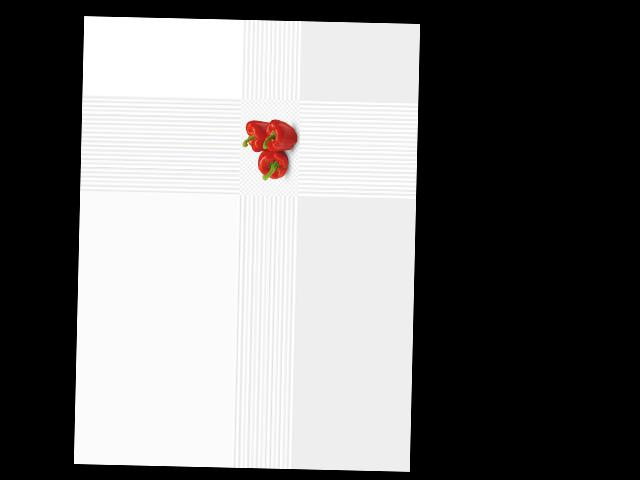bell_pepper: (253, 146, 291, 182)
